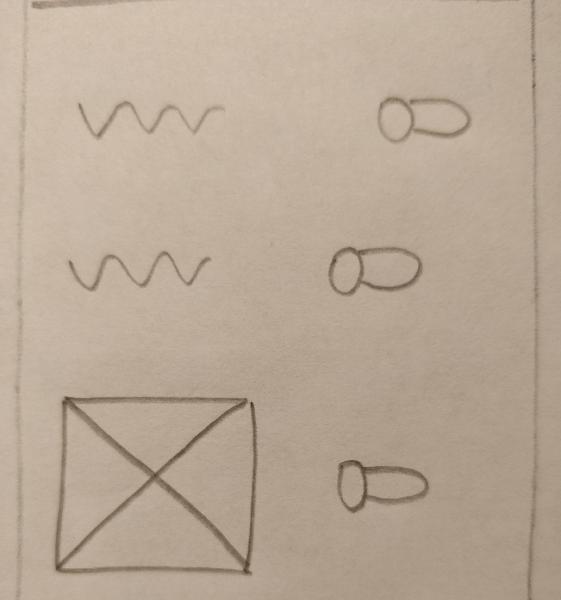image: (48, 385, 261, 585)
switch: (357, 77, 476, 150), (314, 231, 433, 304), (325, 446, 444, 519)
text: (70, 84, 235, 161), (59, 237, 224, 314)
